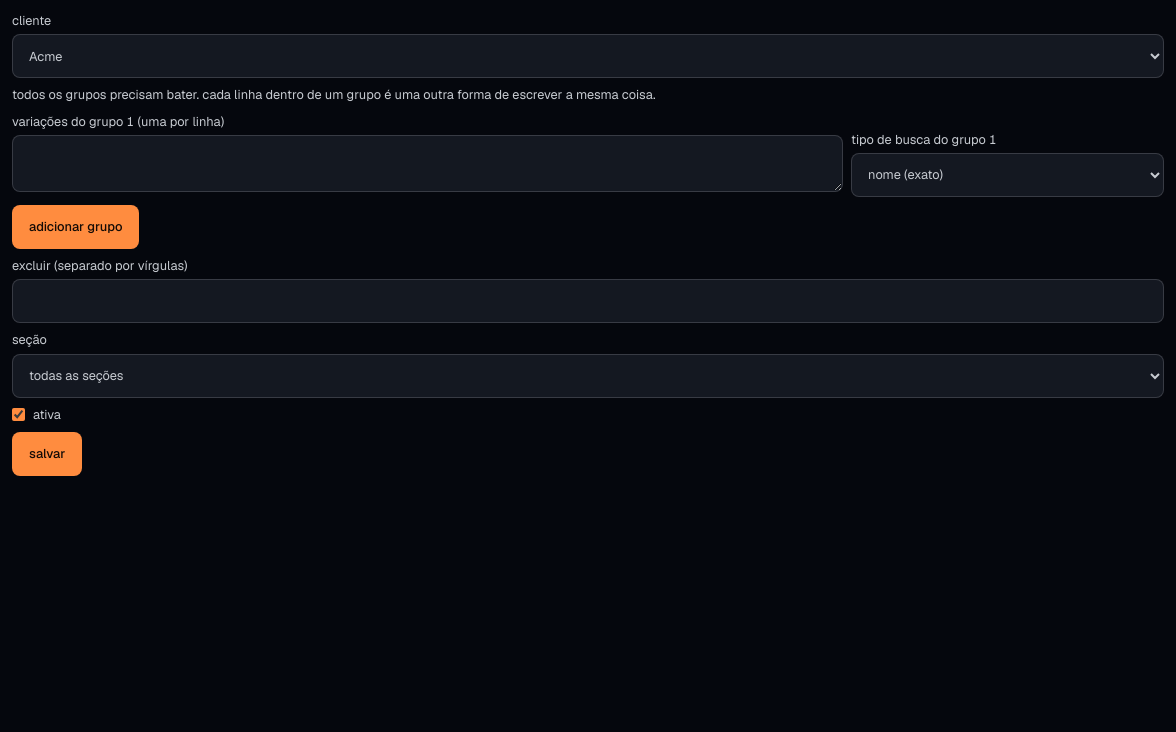
Test: WatchForm › a 400 field error is shown
Select "Acme" in the dropdown labelled "cliente" at (588, 56), box [12, 34, 1164, 78]
Click the button "salvar" at (47, 454), box [12, 432, 82, 476]
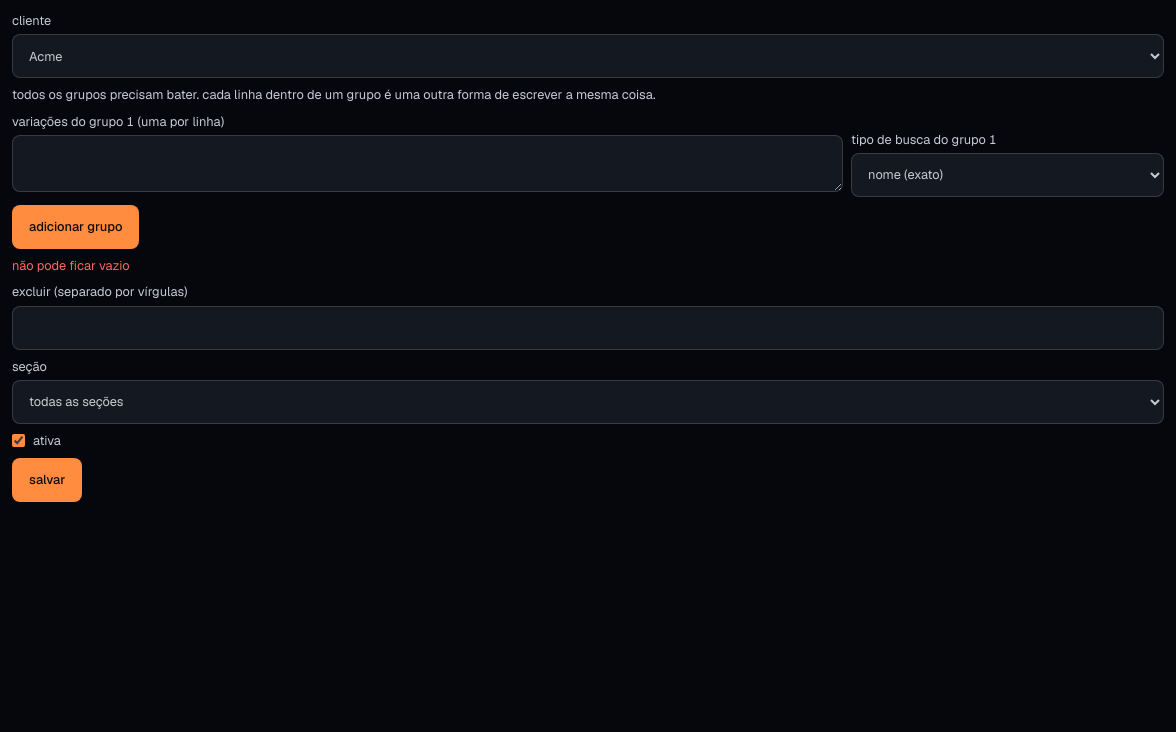
Check: the text "não pode ficar vazio" is shown, box [12, 257, 130, 274]
